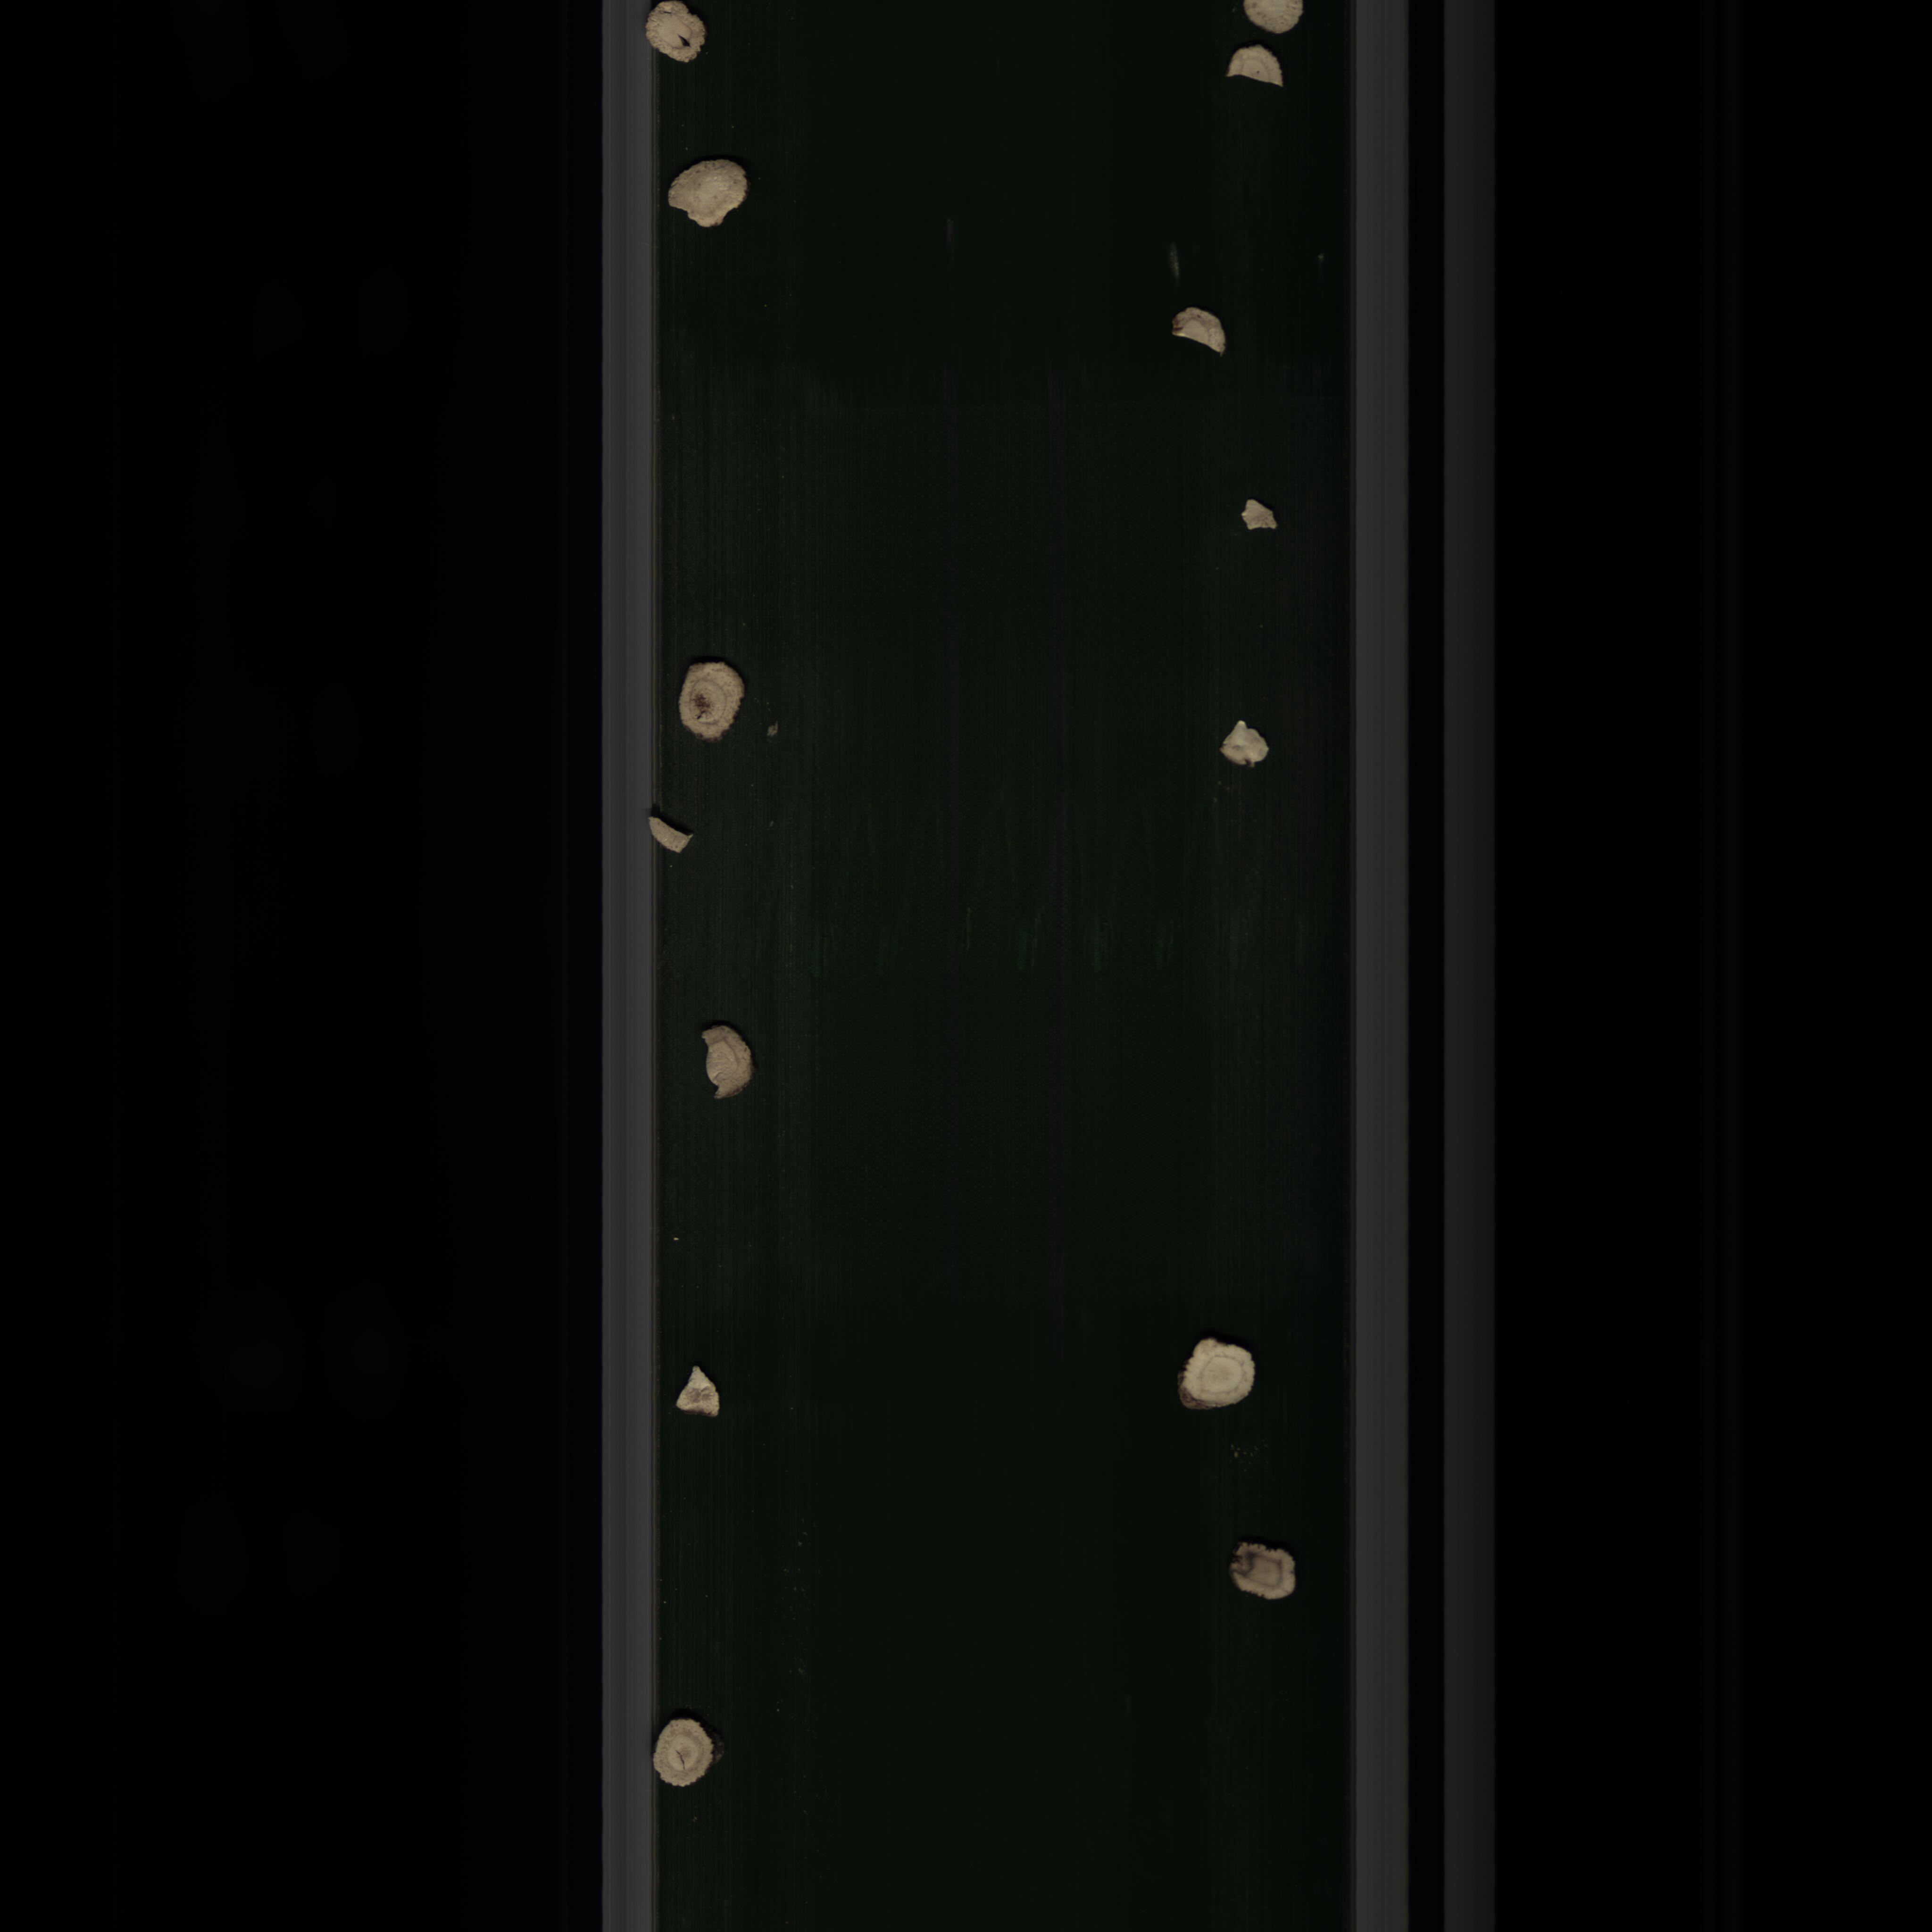debris: (663, 159, 759, 239), (695, 1010, 764, 1108), (1161, 303, 1233, 366), (669, 1355, 729, 1428), (1212, 44, 1293, 96), (1210, 715, 1283, 768), (1221, 492, 1292, 538)
hole: (637, 0, 724, 74)
moldy: (678, 649, 759, 754), (1219, 1527, 1302, 1612), (640, 812, 699, 862)
